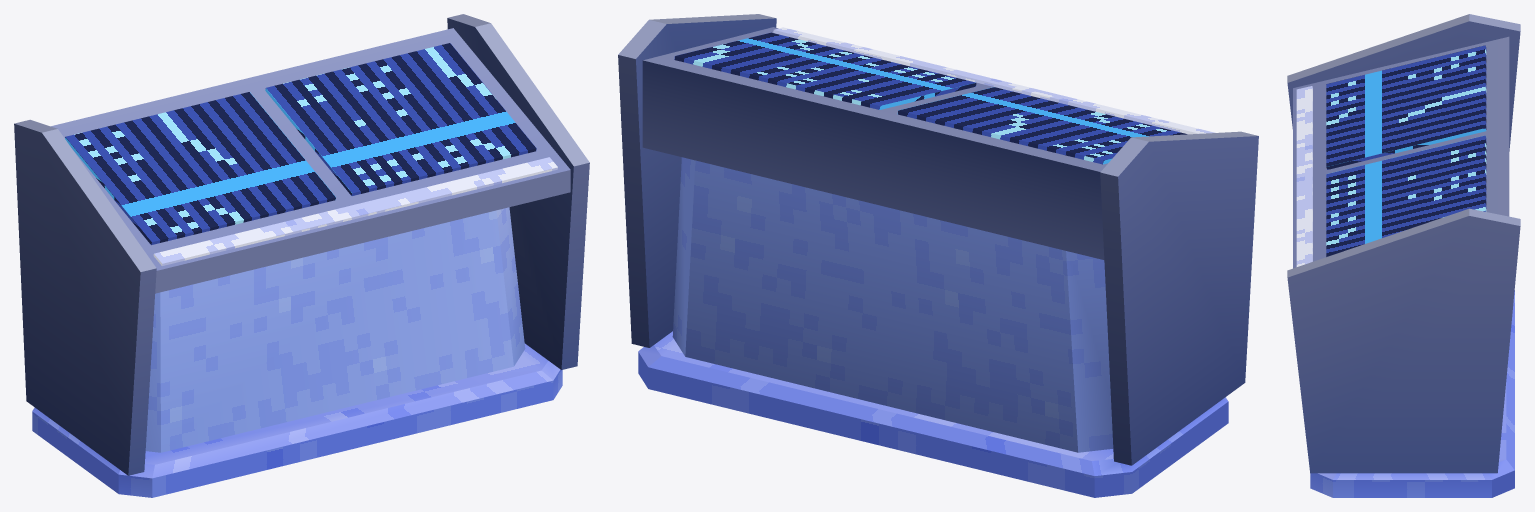
The model's file is tech.console.glb.
3 views of the same model, side by side, from view 1: azimuth 30°, elevation 25°; view 2: azimuth 150°, elevation 25°; view 3: azimuth 270°, elevation 25° (orthographic). The views are drawn at different scales.
Visible parts, largest first — view 1: kit_body, kit_fins, kit_screens, kit_desk, kit_plinth, kit_strip; view 2: kit_body, kit_fins, kit_desk, kit_plinth, kit_screens, kit_strip; view 3: kit_fins, kit_screens, kit_desk, kit_plinth, kit_strip.
Boxes of the visible parts, bbox=[...] form: kit_body: bbox=[145, 207, 525, 452]; kit_fins: bbox=[14, 14, 589, 475]; kit_screens: bbox=[65, 43, 536, 244]; kit_desk: bbox=[51, 28, 570, 293]; kit_plinth: bbox=[32, 343, 562, 497]; kit_strip: bbox=[153, 157, 557, 265]; kit_body: bbox=[672, 157, 1113, 452]; kit_fins: bbox=[618, 14, 1258, 465]; kit_desk: bbox=[642, 27, 1107, 259]; kit_plinth: bbox=[638, 331, 1228, 497]; kit_screens: bbox=[674, 32, 1186, 164]; kit_strip: bbox=[773, 27, 1215, 134]; kit_fins: bbox=[1287, 14, 1520, 473]; kit_screens: bbox=[1326, 45, 1486, 256]; kit_desk: bbox=[1293, 36, 1509, 268]; kit_plinth: bbox=[1310, 290, 1514, 497]; kit_strip: bbox=[1296, 86, 1312, 266].
Size of the model in its own units: 1.68 by 1.1 by 0.82.
6 materials, 4 textured.
